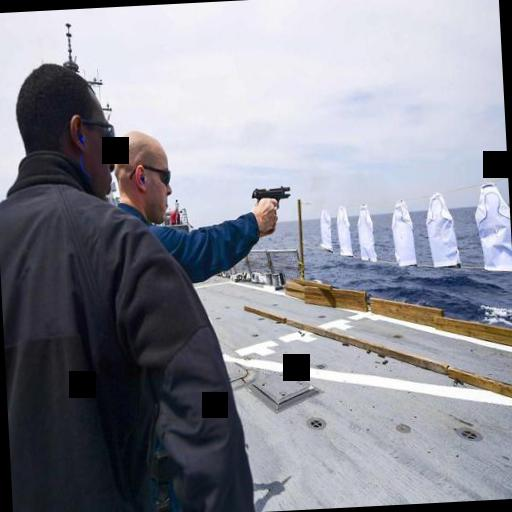Handgun: (248, 181, 291, 215)
